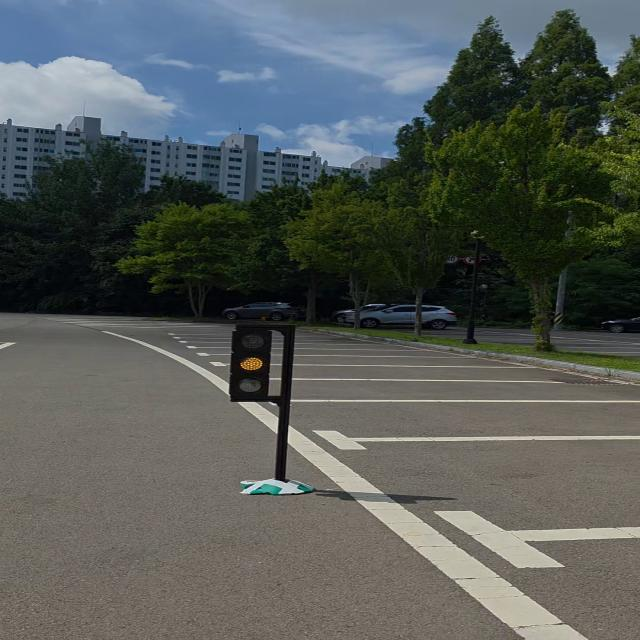yellow: (229, 324, 279, 404)
